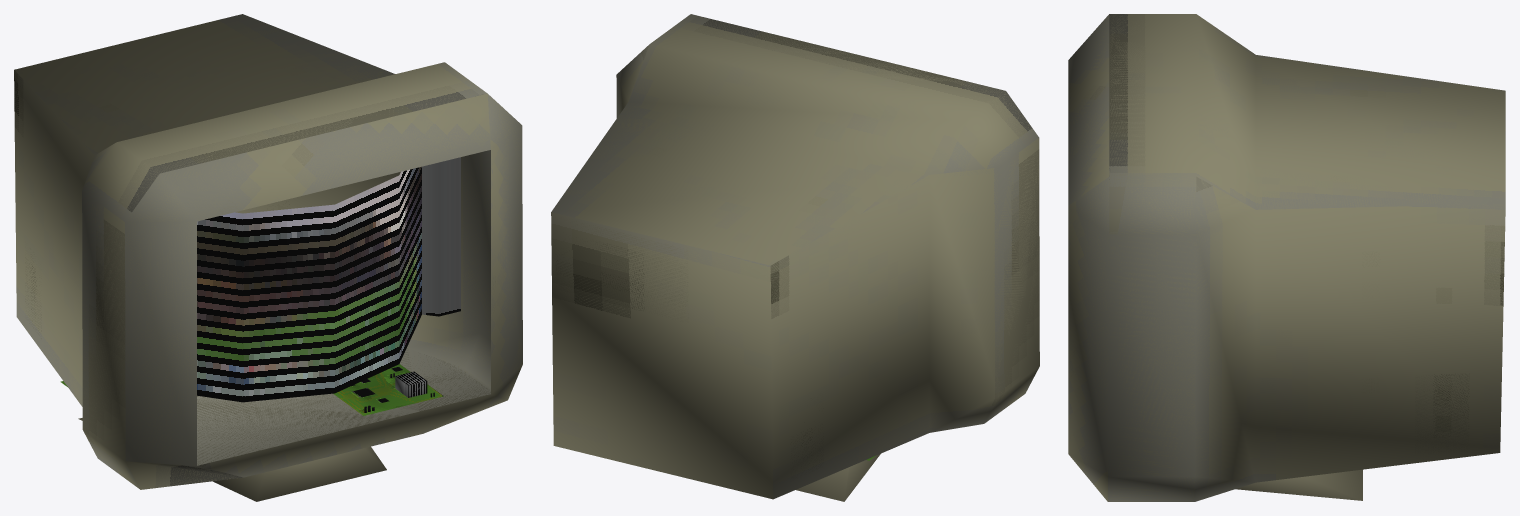
Rendered from monitor.fbx.
3 views of the same model, side by side, from view 1: azimuth 30°, elevation 25°; view 2: azimuth 150°, elevation 25°; view 3: azimuth 270°, elevation 25° (orthographic). The views are drawn at different scales.
Visible parts, largest first — view 1: Inner_Shell, Shell, TV, Circuit Board 2; view 2: Inner_Shell, Shell; view 3: Inner_Shell, Shell.
Part boxes in pixels (x1=…): Inner_Shell: x1=14, y1=14, x2=522, y2=489; Shell: x1=14, y1=23, x2=522, y2=501; TV: x1=197, y1=157, x2=460, y2=402; Circuit Board 2: x1=333, y1=364, x2=443, y2=415; Inner_Shell: x1=551, y1=14, x2=1039, y2=499; Shell: x1=552, y1=15, x2=1039, y2=501; Inner_Shell: x1=1068, y1=14, x2=1505, y2=501; Shell: x1=1068, y1=14, x2=1505, y2=501.
Bounding box in the file's own units: 78.49 × 65.55 × 73.75.
Materials: 3 (3 with a texture image).
